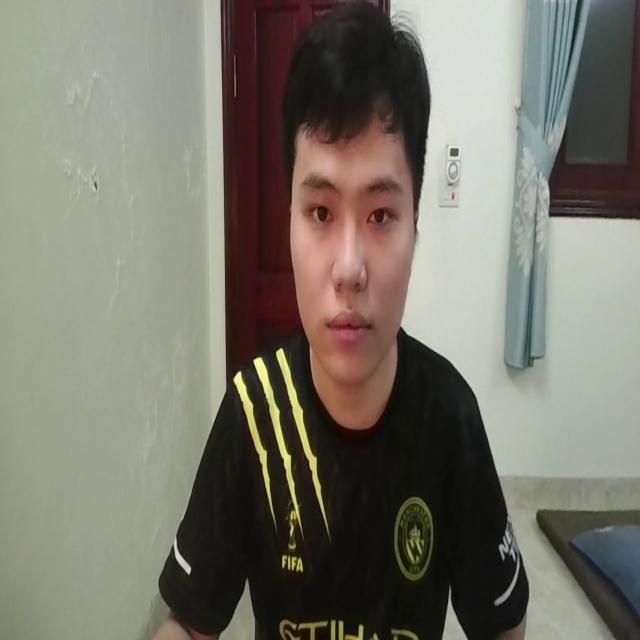student: (156, 0, 530, 640)
